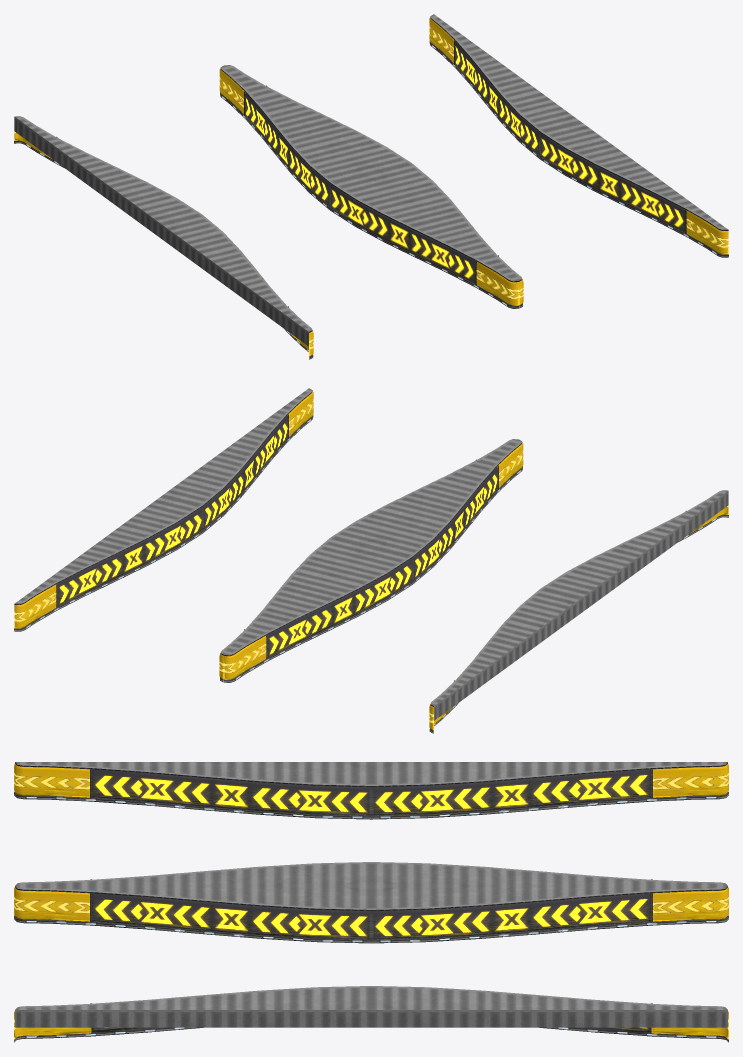
The model's file is obstacle_splits_3.fbx.
The picture shows the model from 3 angles, top to bottom: view 1: azimuth 30°, elevation 25°; view 2: azimuth 150°, elevation 25°; view 3: azimuth 270°, elevation 25°; orthographic projection. The views are drawn at different scales.
Visible parts, largest first — view 1: barrier3; view 2: barrier3; view 3: barrier3.
Boxes of the visible parts, x1,y1,x2,y2 form: barrier3: (14, 14, 728, 359); barrier3: (14, 388, 728, 733); barrier3: (14, 762, 728, 1042).
Bounding box in the file's own units: 4081 × 254 × 4975.
